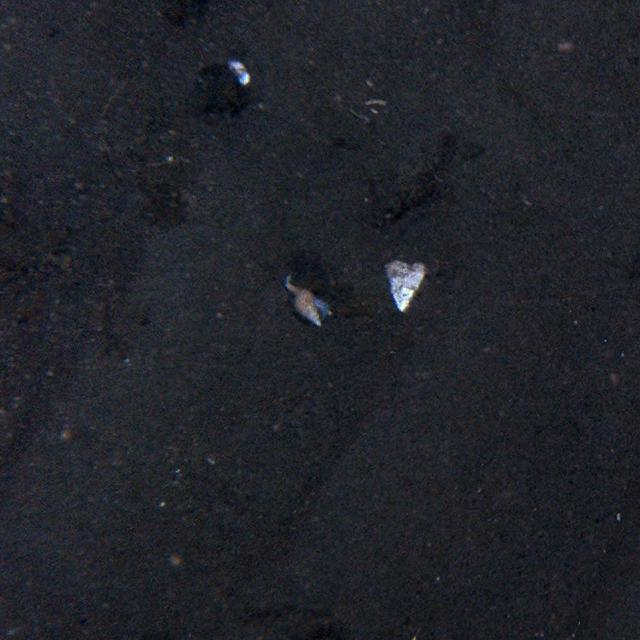whelk: (285, 284, 323, 330)
